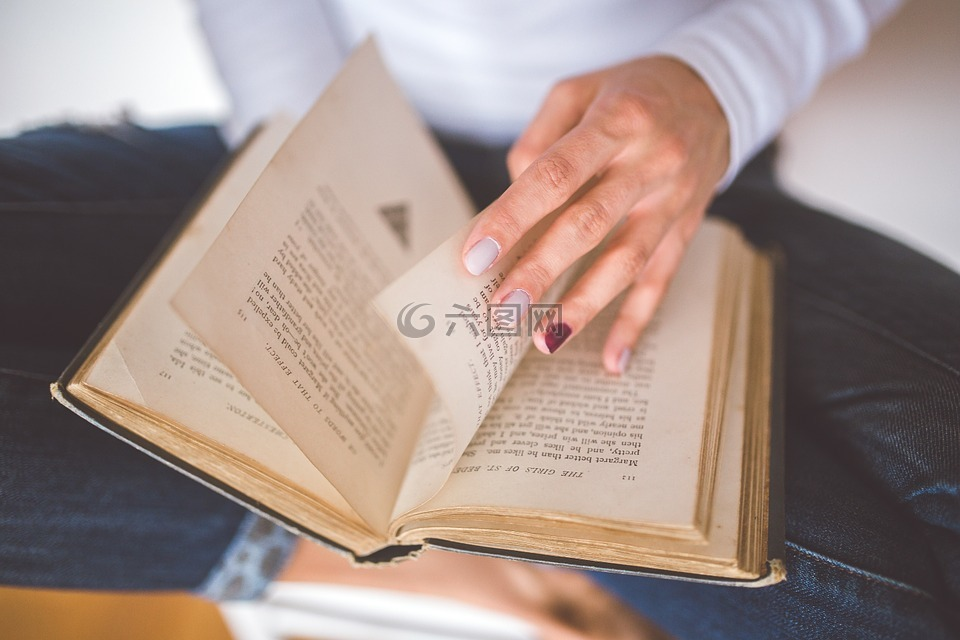book: (30, 20, 843, 603)
